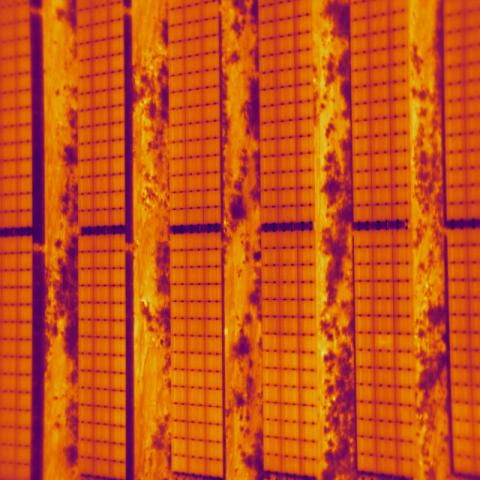fault: (374, 334, 394, 351)
